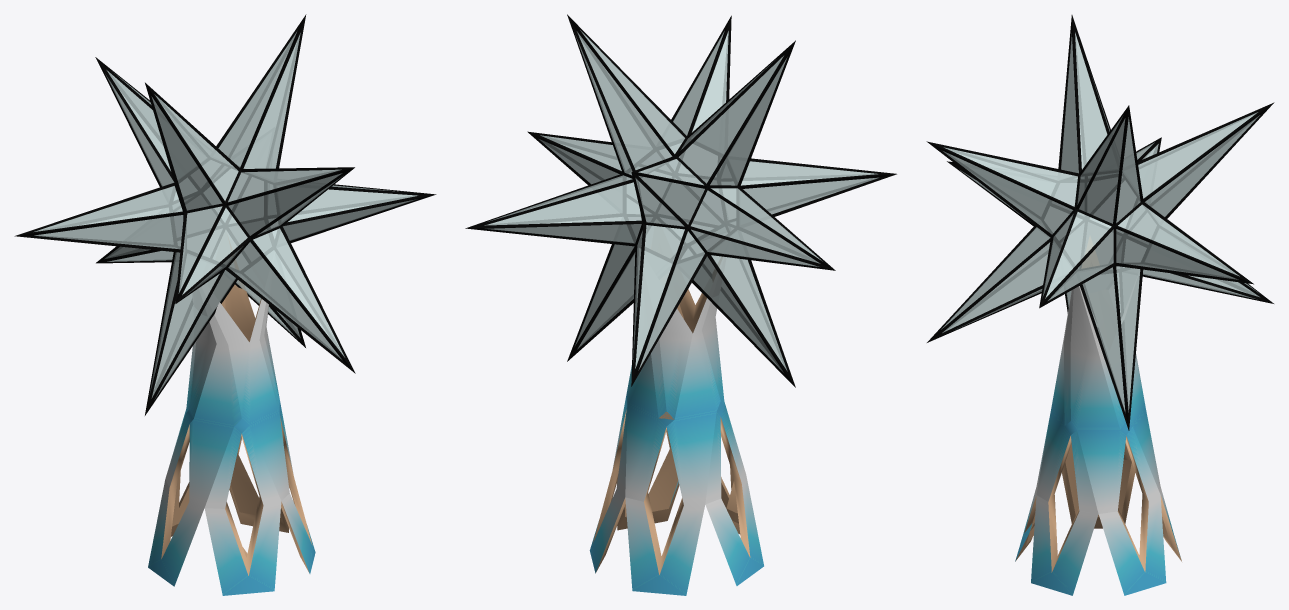
The model's file is Gaudi3.glb.
The picture shows the model from 3 angles, left to right: view 1: azimuth 30°, elevation 25°; view 2: azimuth 150°, elevation 25°; view 3: azimuth 270°, elevation 25°; orthographic projection. The views are drawn at different scales.
Parts seen in each view (by area): view 1: Solid, Cylinder.001, Solid.002, Cylinder; view 2: Solid, Cylinder.001, Solid.002, Cylinder; view 3: Solid, Cylinder.001, Solid.002, Cylinder.
Boxes of the visible parts, x1=… form: Solid: x1=34, y1=32, x2=417, y2=399; Cylinder.001: x1=148, y1=284, x2=315, y2=595; Solid.002: x1=14, y1=14, x2=436, y2=415; Cylinder: x1=161, y1=241, x2=312, y2=575; Solid: x1=484, y1=30, x2=878, y2=372; Cylinder.001: x1=589, y1=257, x2=763, y2=595; Solid.002: x1=465, y1=14, x2=896, y2=387; Cylinder: x1=593, y1=257, x2=750, y2=574; Solid: x1=941, y1=32, x2=1259, y2=412; Cylinder.001: x1=1015, y1=282, x2=1180, y2=595; Solid.002: x1=926, y1=15, x2=1274, y2=430; Cylinder: x1=1015, y1=237, x2=1181, y2=572.
Bounding box in the file's own units: 4.85 × 6.6 × 4.16.
4 materials, 1 textured.
